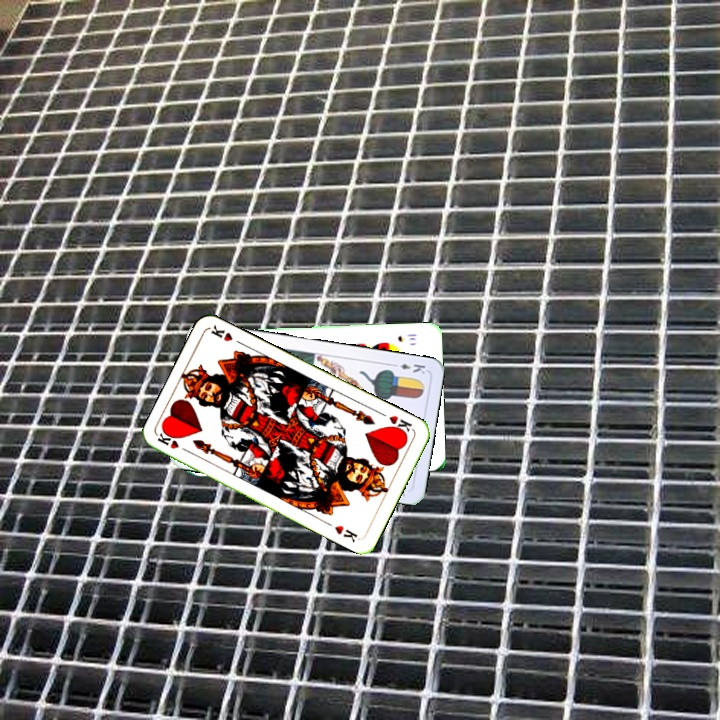EK: (387, 359, 428, 376)
HK: (154, 429, 193, 456), (385, 411, 416, 437)
S10: (394, 330, 419, 344)
